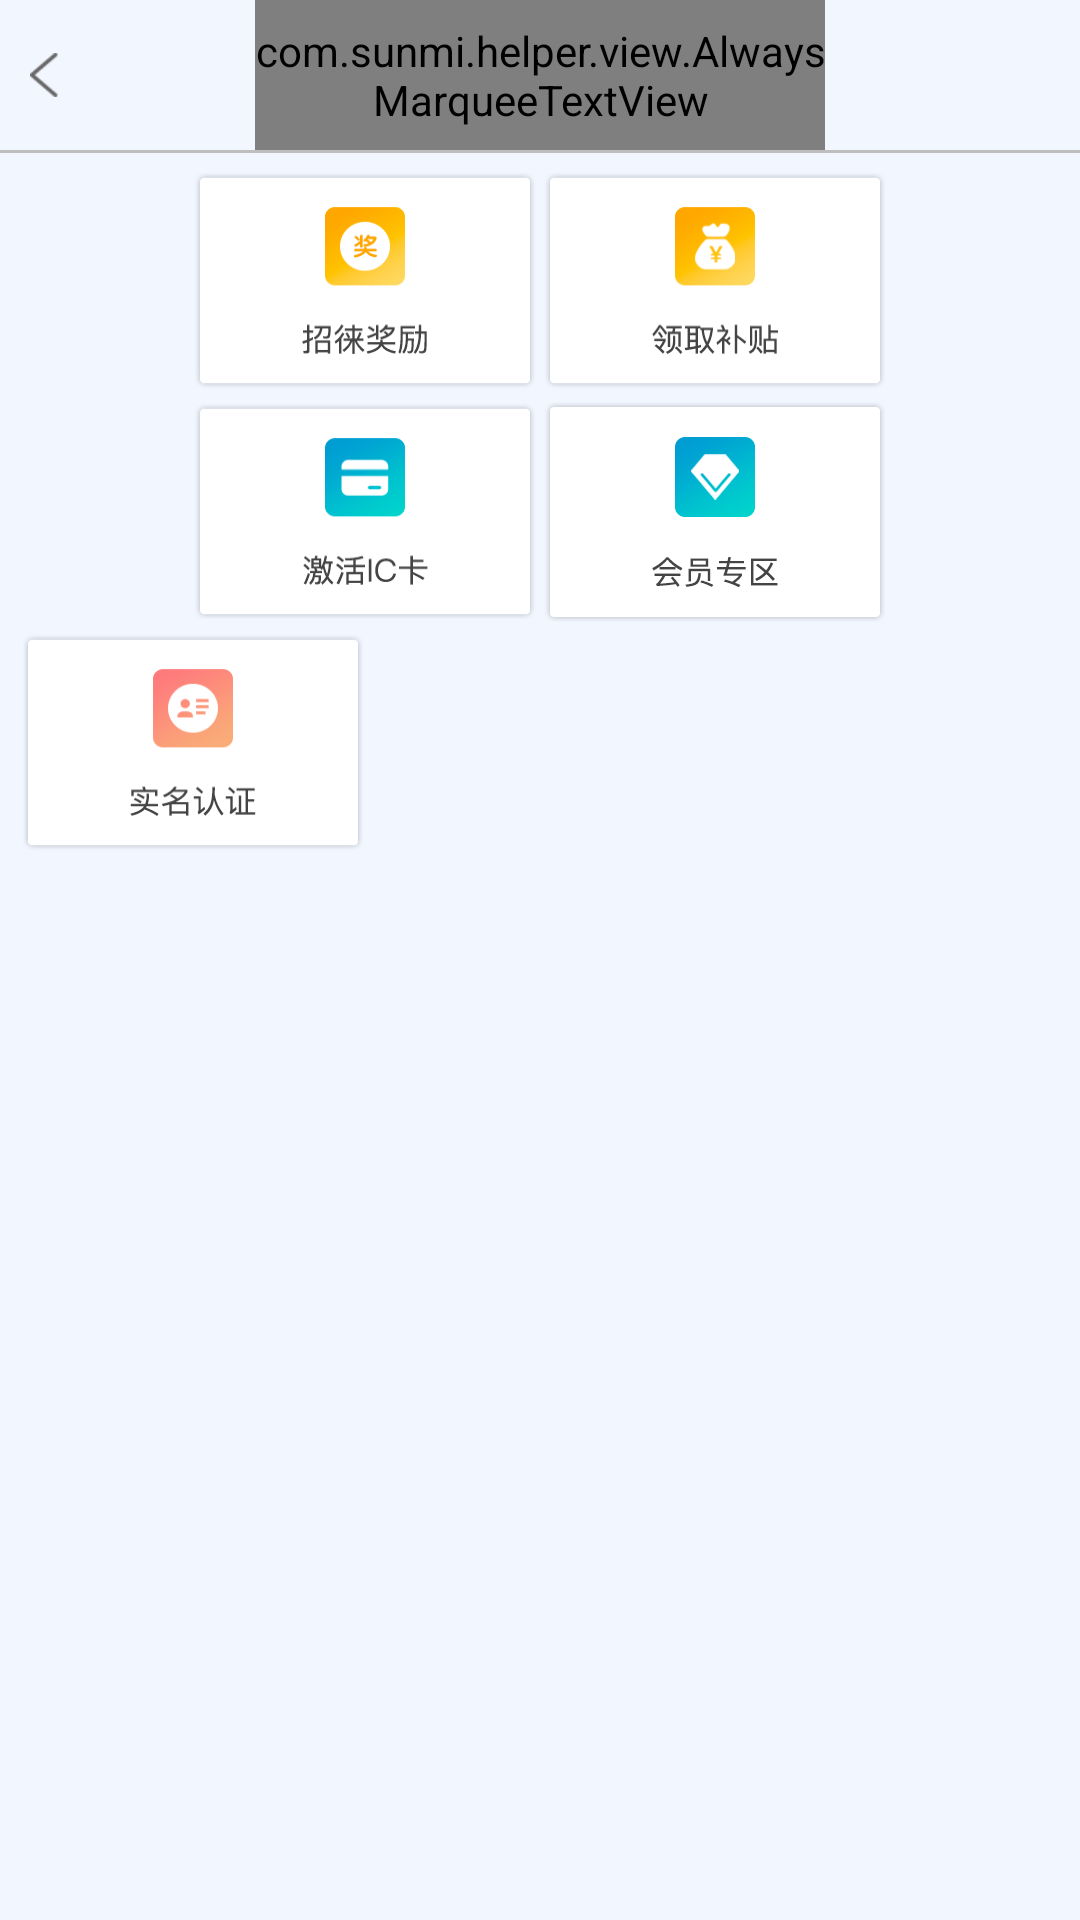

Where icons sit on this 1080 x 1920 app screen, as box=[x1, y1, x2, y2]:
prosale back: box=[30, 53, 58, 97]
